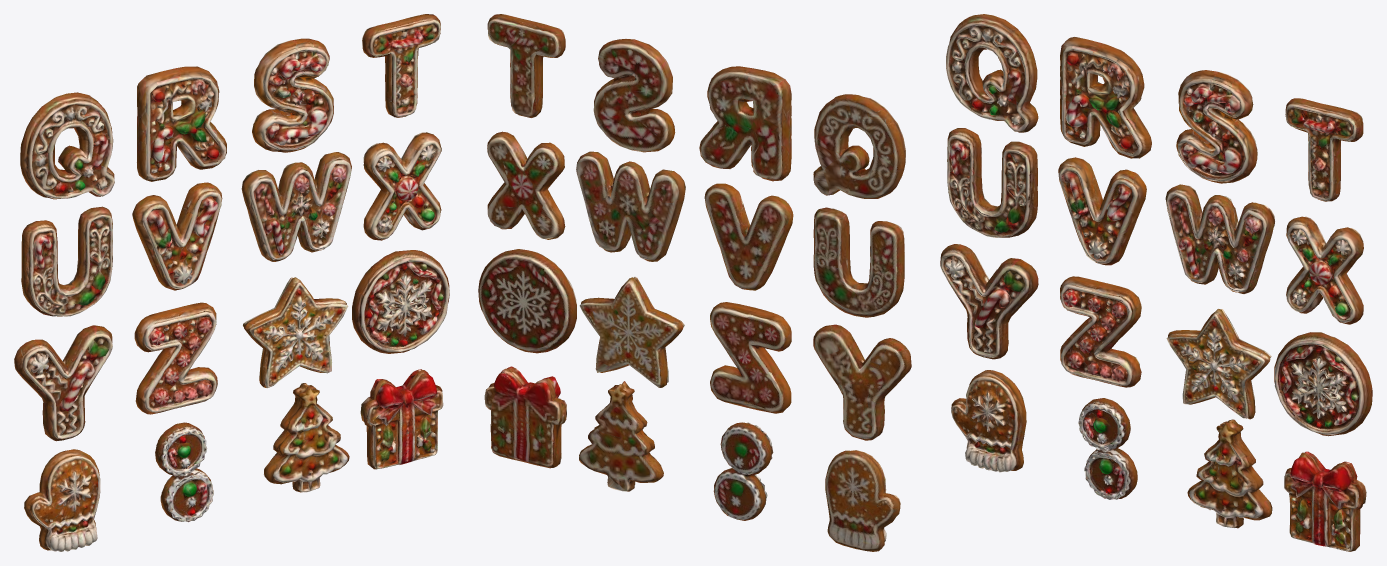
The picture shows the model from 3 angles, left to right: view 1: azimuth 30°, elevation 25°; view 2: azimuth 150°, elevation 25°; view 3: azimuth 330°, elevation 25°; orthographic projection.
Visible parts, largest first — view 1: model_part6, model_part8, model_part12, model_part1, model_part10, model_part2, model_part5, model_part9, model_part0, model_part13, model_part4, model_part15 (+4 smaller); view 2: model_part6, model_part8, model_part12, model_part1, model_part10, model_part2, model_part5, model_part9, model_part0, model_part13, model_part4, model_part15 (+4 smaller); view 3: model_part6, model_part8, model_part12, model_part1, model_part10, model_part2, model_part5, model_part9, model_part0, model_part13, model_part4, model_part15 (+4 smaller).
Boxes of the visible parts, left/top/right/bottom form: model_part6: left=137, top=66, right=226, bottom=181; model_part8: left=241, top=152, right=351, bottom=261; model_part12: left=352, top=250, right=449, bottom=353; model_part1: left=20, top=92, right=114, bottom=199; model_part10: left=252, top=38, right=333, bottom=152; model_part2: left=21, top=206, right=112, bottom=316; model_part5: left=134, top=302, right=217, bottom=414; model_part9: left=243, top=277, right=347, bottom=388; model_part0: left=14, top=325, right=112, bottom=441; model_part13: left=360, top=369, right=443, bottom=469; model_part4: left=132, top=182, right=222, bottom=290; model_part15: left=363, top=132, right=441, bottom=240; model_part6: left=699, top=66, right=791, bottom=181; model_part8: left=576, top=151, right=685, bottom=261; model_part12: left=478, top=249, right=576, bottom=353; model_part1: left=813, top=94, right=905, bottom=198; model_part10: left=593, top=39, right=675, bottom=152; model_part2: left=813, top=207, right=904, bottom=317; model_part5: left=710, top=302, right=791, bottom=413; model_part9: left=579, top=277, right=684, bottom=387; model_part0: left=813, top=324, right=911, bottom=440; model_part13: left=484, top=366, right=566, bottom=468; model_part4: left=704, top=183, right=793, bottom=290; model_part15: left=487, top=131, right=565, bottom=239; model_part6: left=1060, top=37, right=1151, bottom=158; model_part8: left=1165, top=184, right=1274, bottom=293; model_part12: left=1274, top=332, right=1372, bottom=436; model_part1: left=946, top=14, right=1038, bottom=132; model_part10: left=1176, top=70, right=1257, bottom=183; model_part2: left=947, top=128, right=1037, bottom=237; model_part5: left=1060, top=276, right=1141, bottom=387; model_part9: left=1166, top=309, right=1271, bottom=419; model_part0: left=940, top=244, right=1038, bottom=359; model_part13: left=1284, top=451, right=1366, bottom=551; model_part4: left=1058, top=157, right=1146, bottom=265; model_part15: left=1286, top=216, right=1363, bottom=324.
Size of the model in its own units: 1.9 by 1.9 by 0.1118.
1 material, 1 textured.
